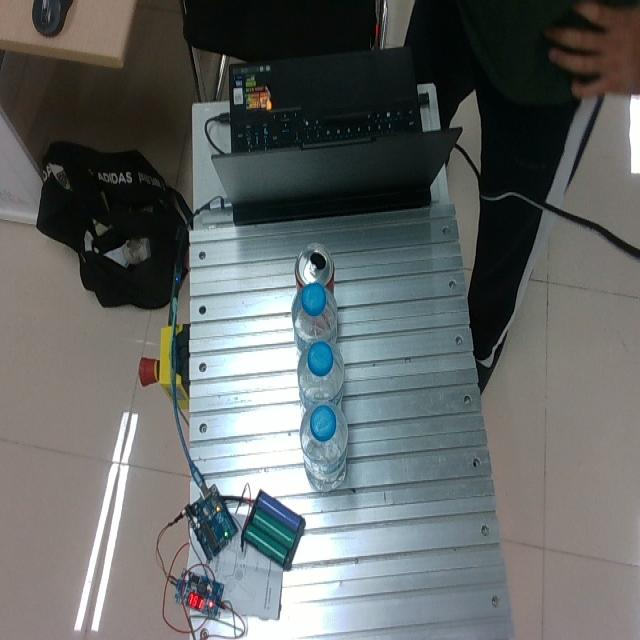coca: (294, 242, 336, 294)
lavie: (299, 400, 349, 489), (291, 283, 339, 353), (296, 340, 345, 408)
